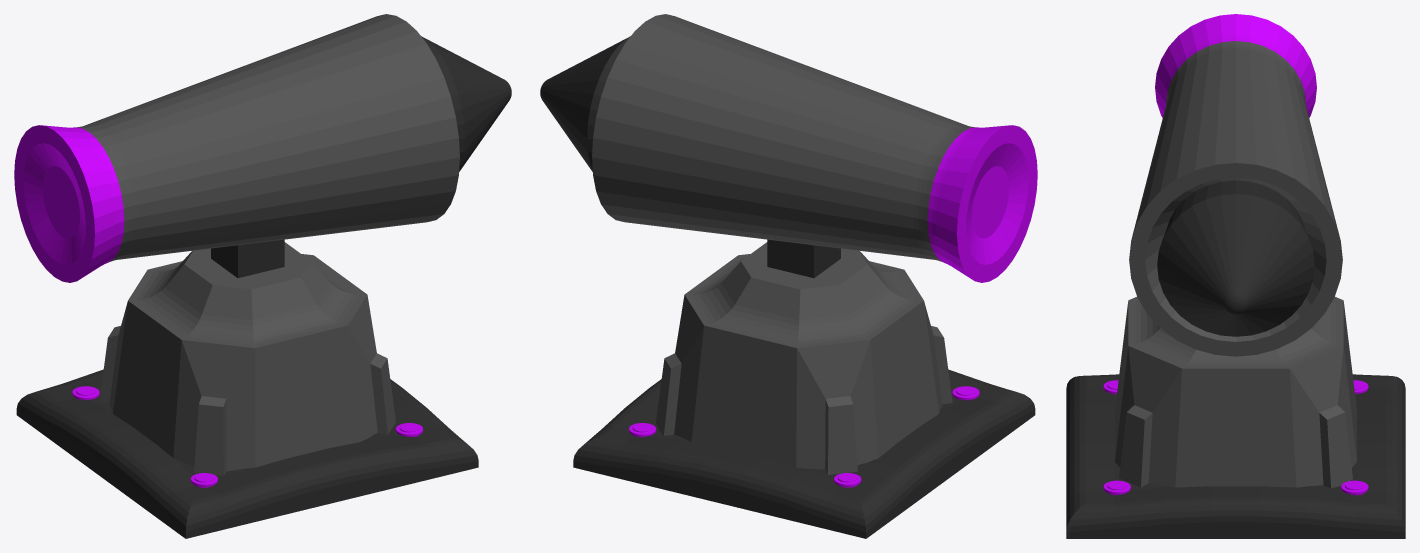
File: Turret4.fbx
3 renders of one model, left to right at view 1: azimuth 30°, elevation 25°; view 2: azimuth 150°, elevation 25°; view 3: azimuth 270°, elevation 25°, orthographic.
Visible parts, largest first — view 1: Cylinder.004, Cube, Plane, Cylinder.005, Cube.001; view 2: Cylinder.004, Cube, Plane, Cylinder.005, Cube.001; view 3: Cylinder.004, Cube, Plane, Cylinder.005.
Part boxes in pixels (x1=…): Cylinder.004: x1=14, y1=14, x2=459, y2=282; Cube: x1=99, y1=242, x2=395, y2=475; Plane: x1=16, y1=369, x2=478, y2=538; Cylinder.005: x1=421, y1=36, x2=511, y2=171; Cube.001: x1=211, y1=239, x2=284, y2=278; Cylinder.004: x1=592, y1=14, x2=1037, y2=282; Cube: x1=656, y1=242, x2=952, y2=474; Plane: x1=573, y1=369, x2=1035, y2=538; Cylinder.005: x1=540, y1=36, x2=630, y2=171; Cube.001: x1=767, y1=239, x2=840, y2=278; Cylinder.004: x1=1129, y1=14, x2=1342, y2=356; Cube: x1=1115, y1=297, x2=1356, y2=488; Plane: x1=1066, y1=374, x2=1405, y2=538; Cylinder.005: x1=1157, y1=180, x2=1314, y2=336.
Size of the model in its own units: 310 by 248 by 200.
